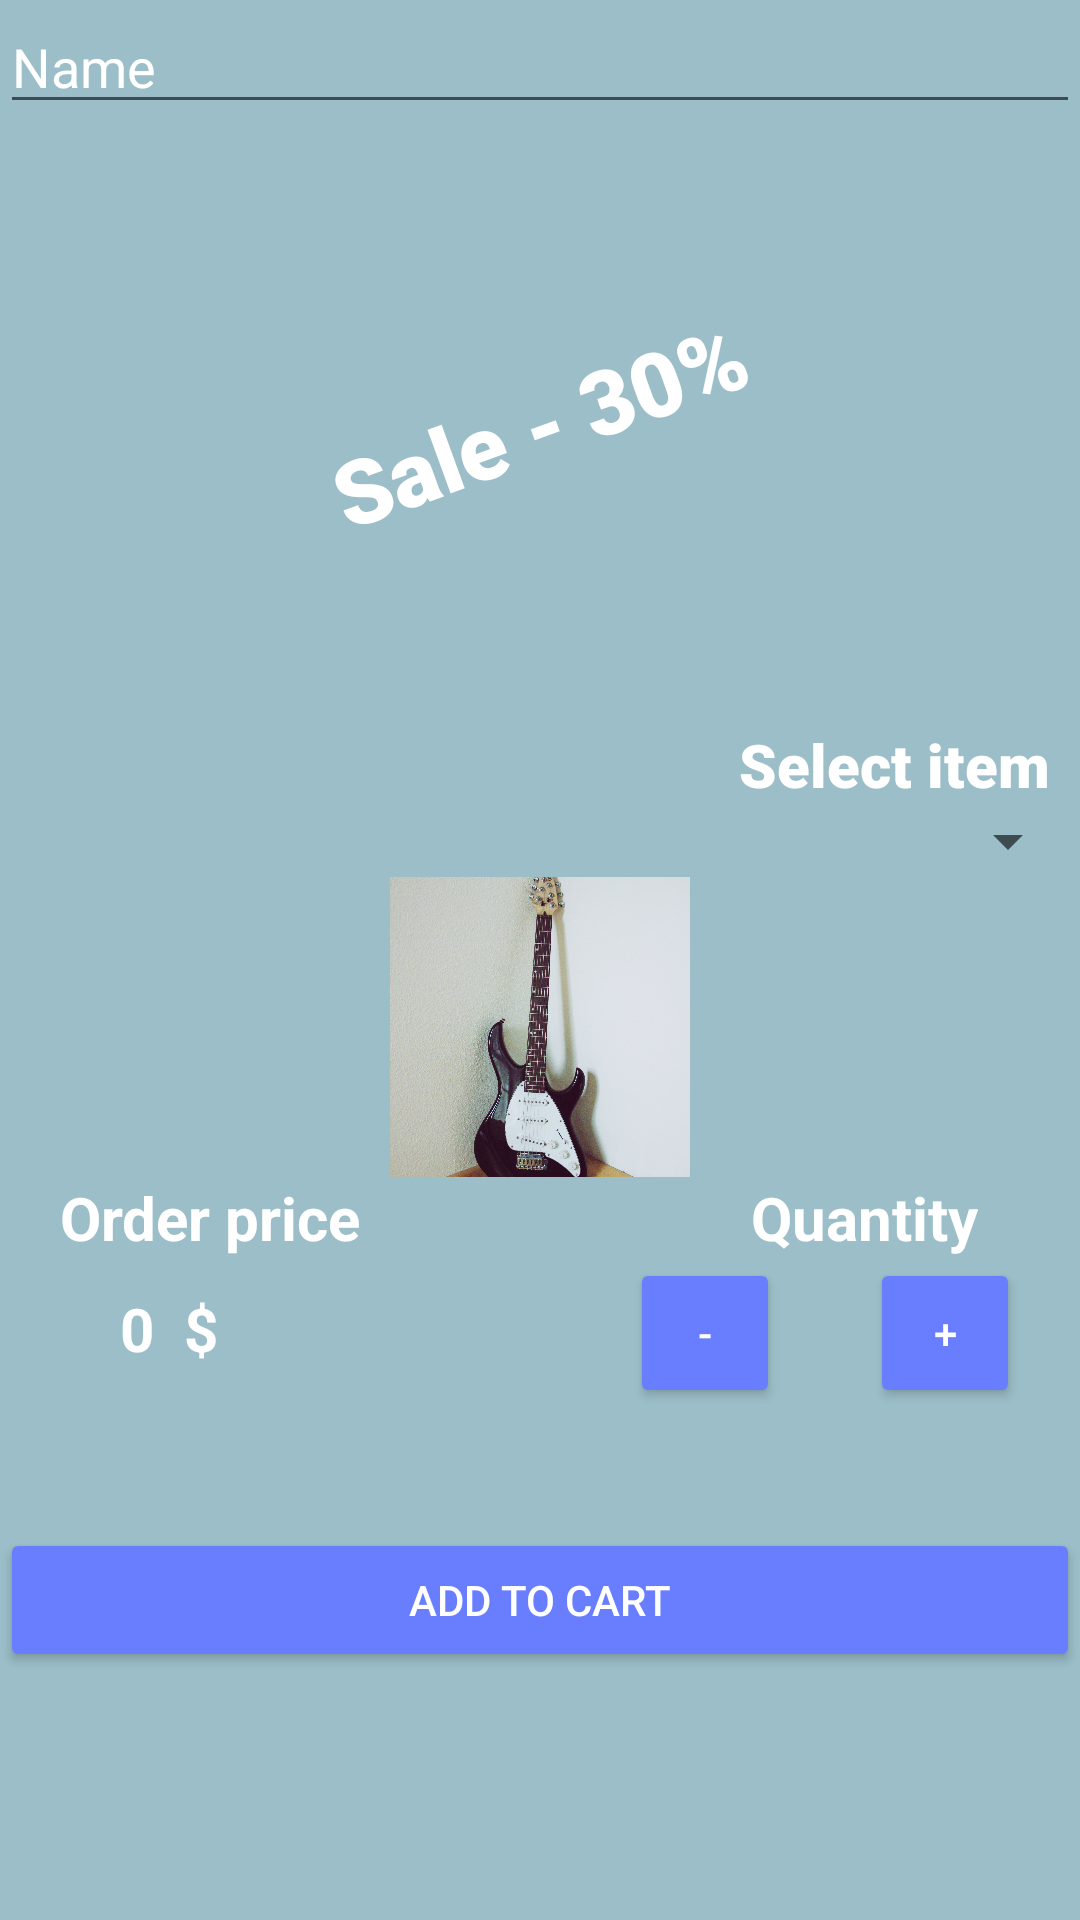

Where icons sit on this 1080 x 1920 app screen, as (x1, y1, x2, y2):
guitar: (390, 877, 690, 1177)
